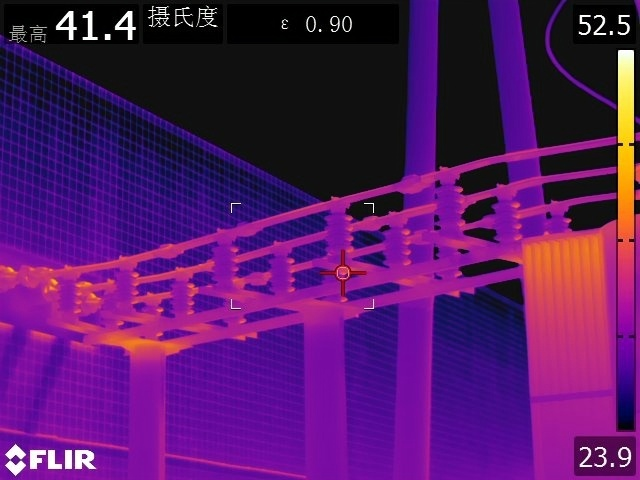post insulator: (433, 176, 471, 233), (264, 246, 303, 298), (209, 231, 243, 288), (488, 198, 524, 250), (321, 209, 356, 262), (381, 221, 416, 269), (163, 273, 202, 315), (112, 261, 147, 306), (54, 266, 77, 318), (541, 209, 576, 239)
